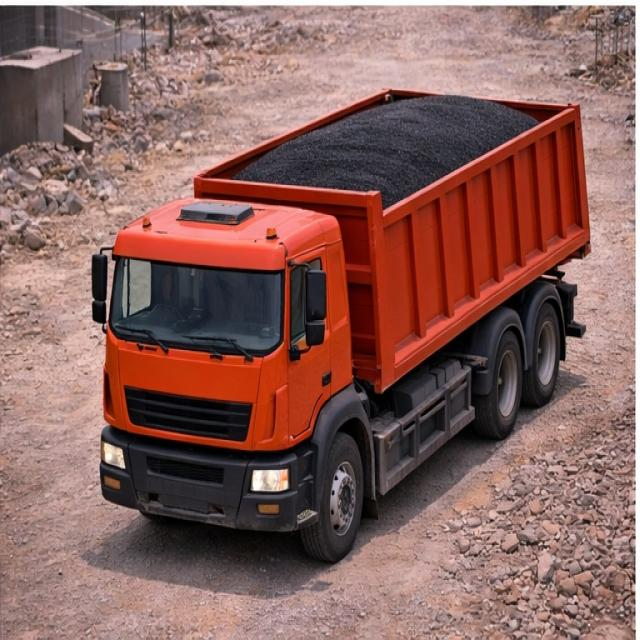trailer: (191, 90, 587, 207)
truck: (91, 68, 593, 558)
